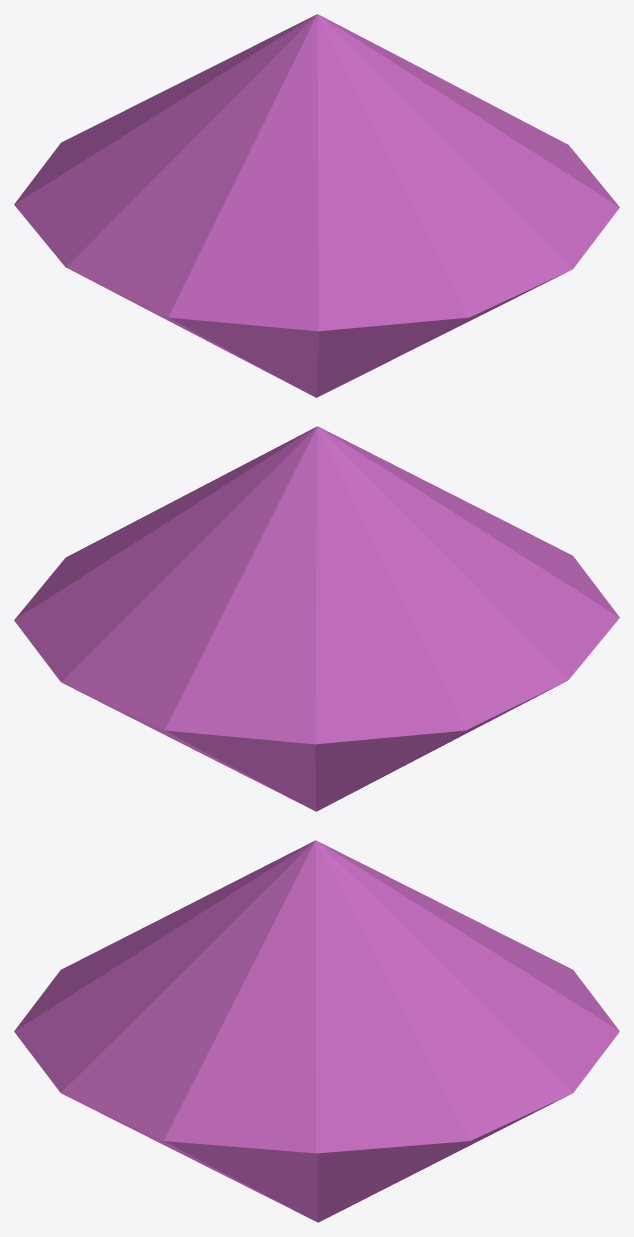
The model's file is 대형관통.fbx.
3 renders of one model, top to bottom at view 1: azimuth 30°, elevation 25°; view 2: azimuth 150°, elevation 25°; view 3: azimuth 270°, elevation 25°, orthographic.
Visible parts, largest first — view 1: Gem008; view 2: Gem008; view 3: Gem008.
Boxes of the visible parts, left/top/right/bottom form: Gem008: left=14, top=14, right=619, bottom=397; Gem008: left=14, top=426, right=619, bottom=811; Gem008: left=14, top=840, right=619, bottom=1222.
Bounding box in the file's own units: 238 × 174 × 250.
